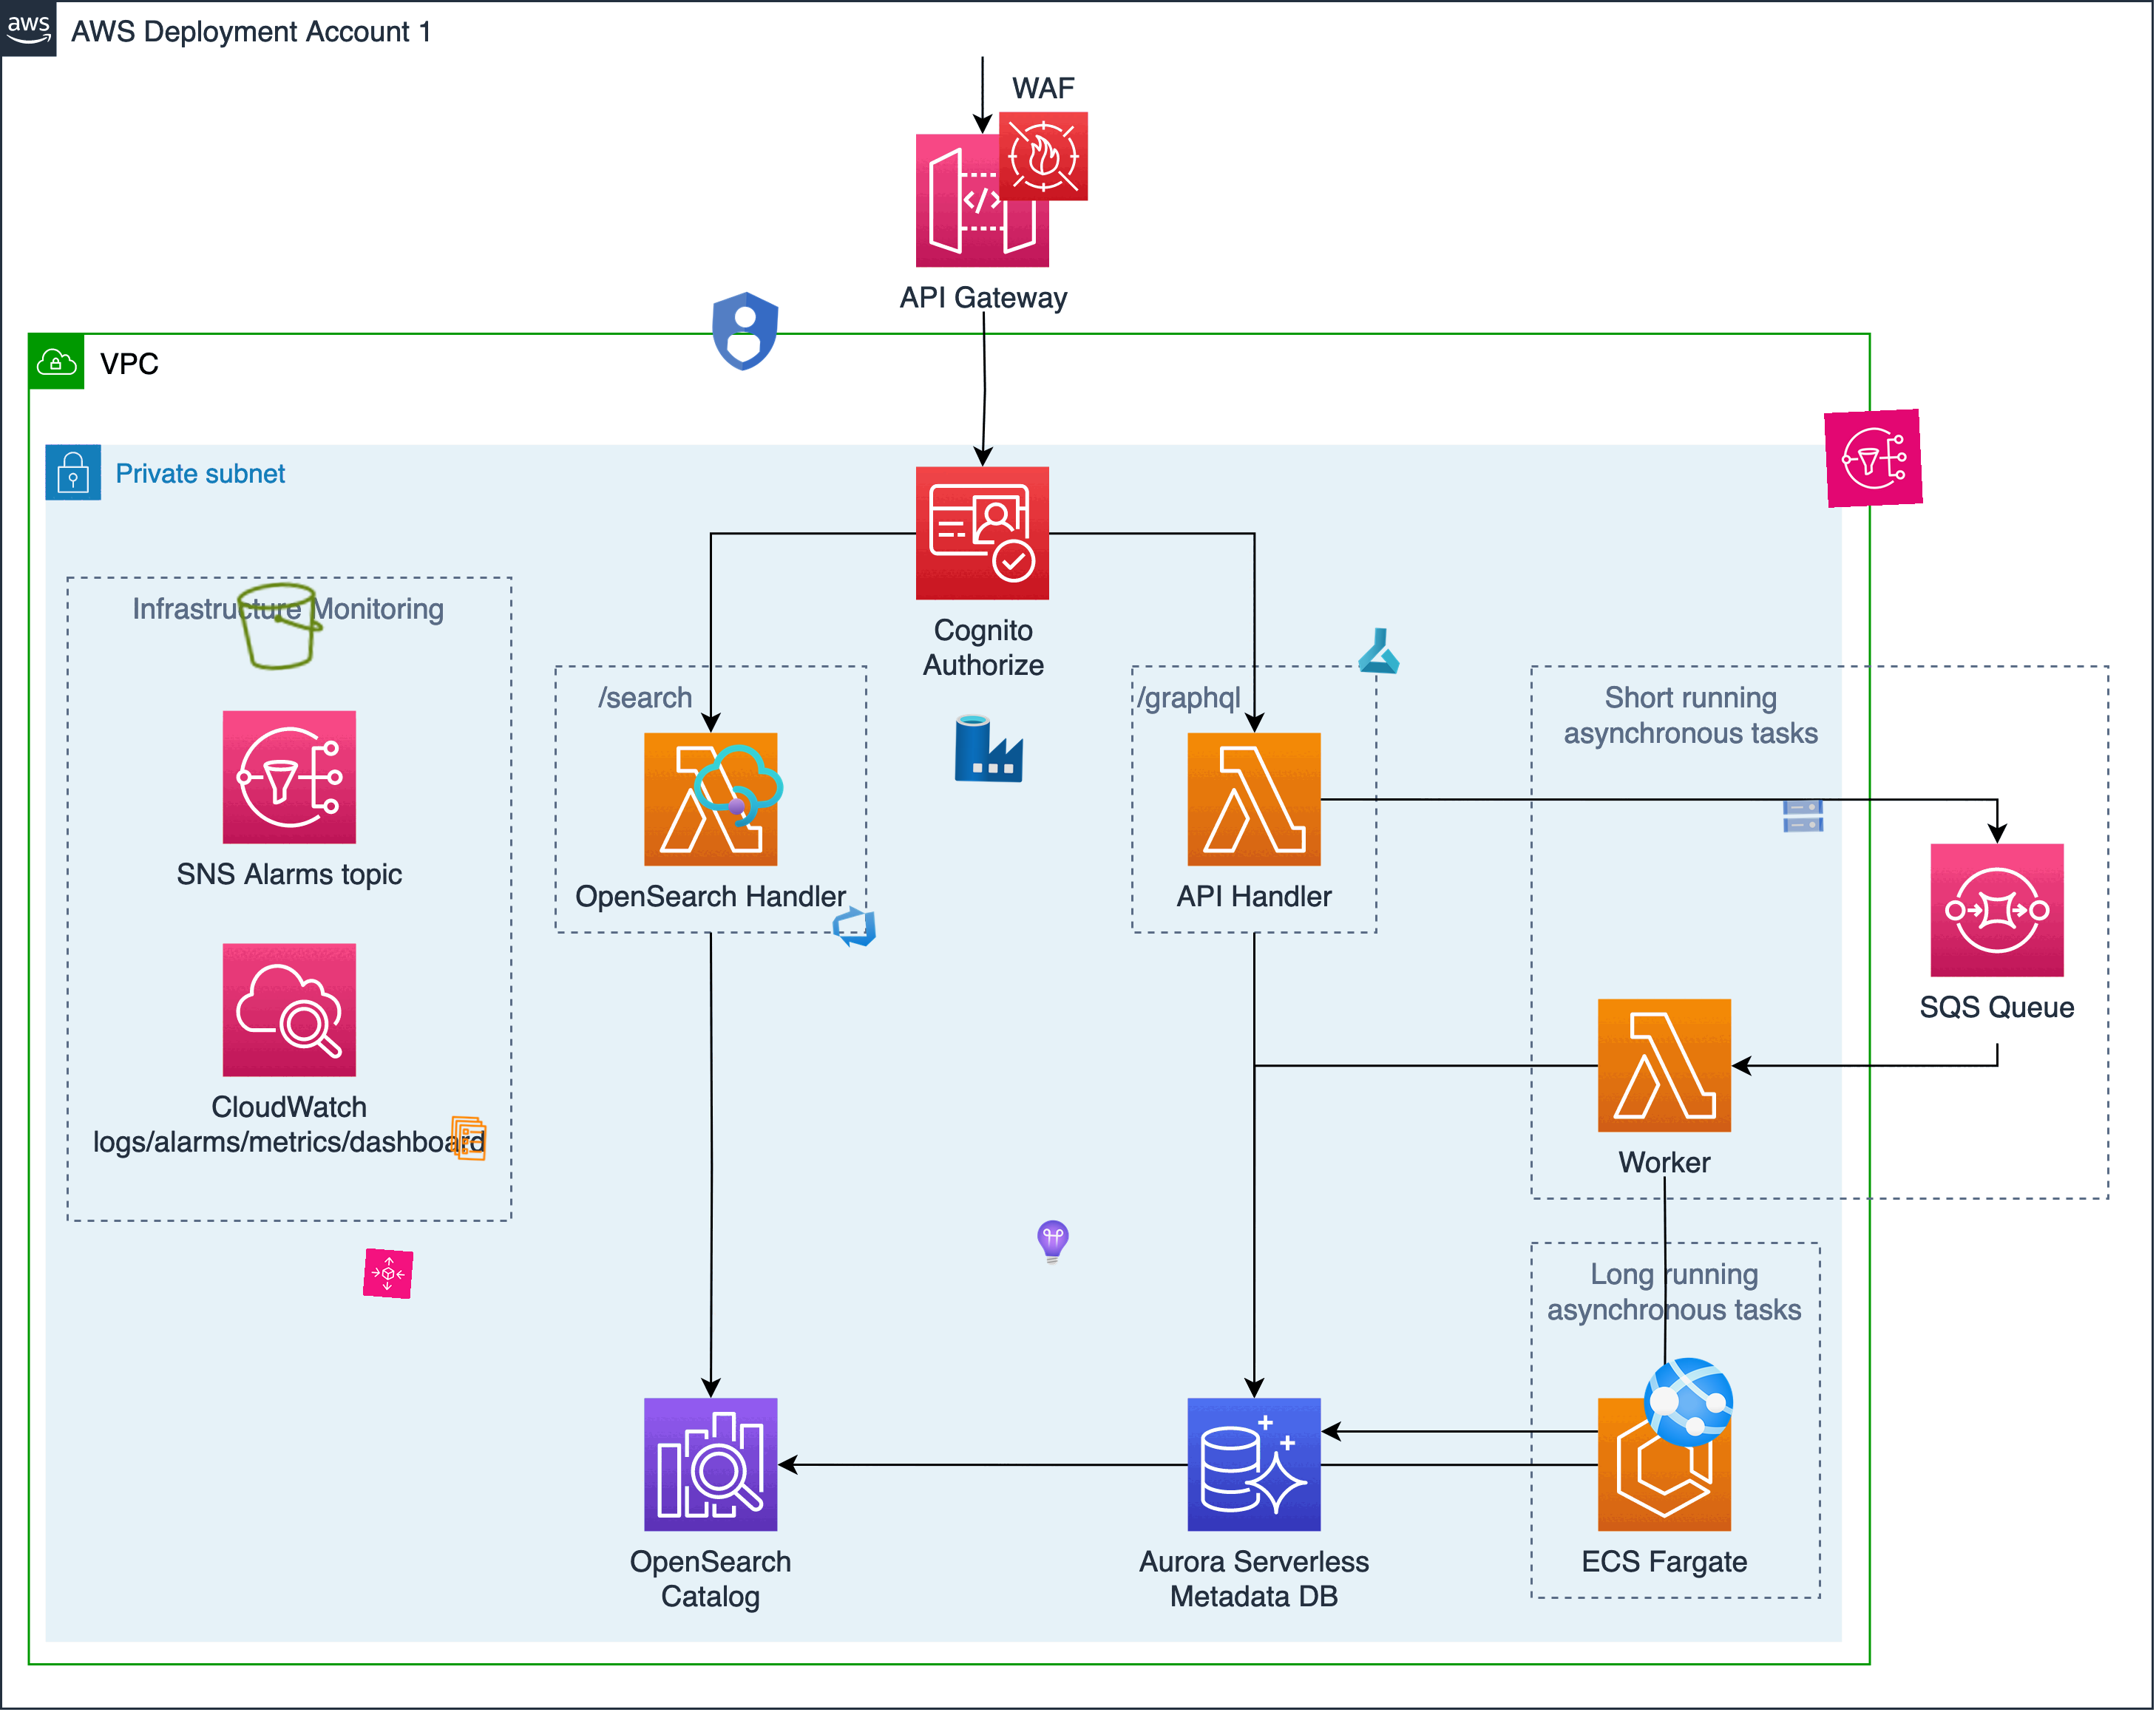aws_amazon_simple_notification_service: (1824, 409, 1923, 507)
aws_auto_scaling: (362, 1249, 415, 1299)
aws_elastic_container_service_service: (443, 1114, 493, 1163)
aws_simple_storage_service_bucket: (229, 574, 332, 679)
azure_api_management_services: (688, 736, 789, 836)
azure_app_services: (1640, 1354, 1738, 1451)
azure_application_insights: (1027, 1217, 1078, 1268)
azure_data_factories: (952, 712, 1025, 785)
azure_devops: (828, 901, 880, 951)
azure_machine_learning: (1355, 626, 1405, 675)
gcp_cloud_storage: (1780, 792, 1827, 841)
gcp_identity_and_access_management: (695, 282, 794, 381)
